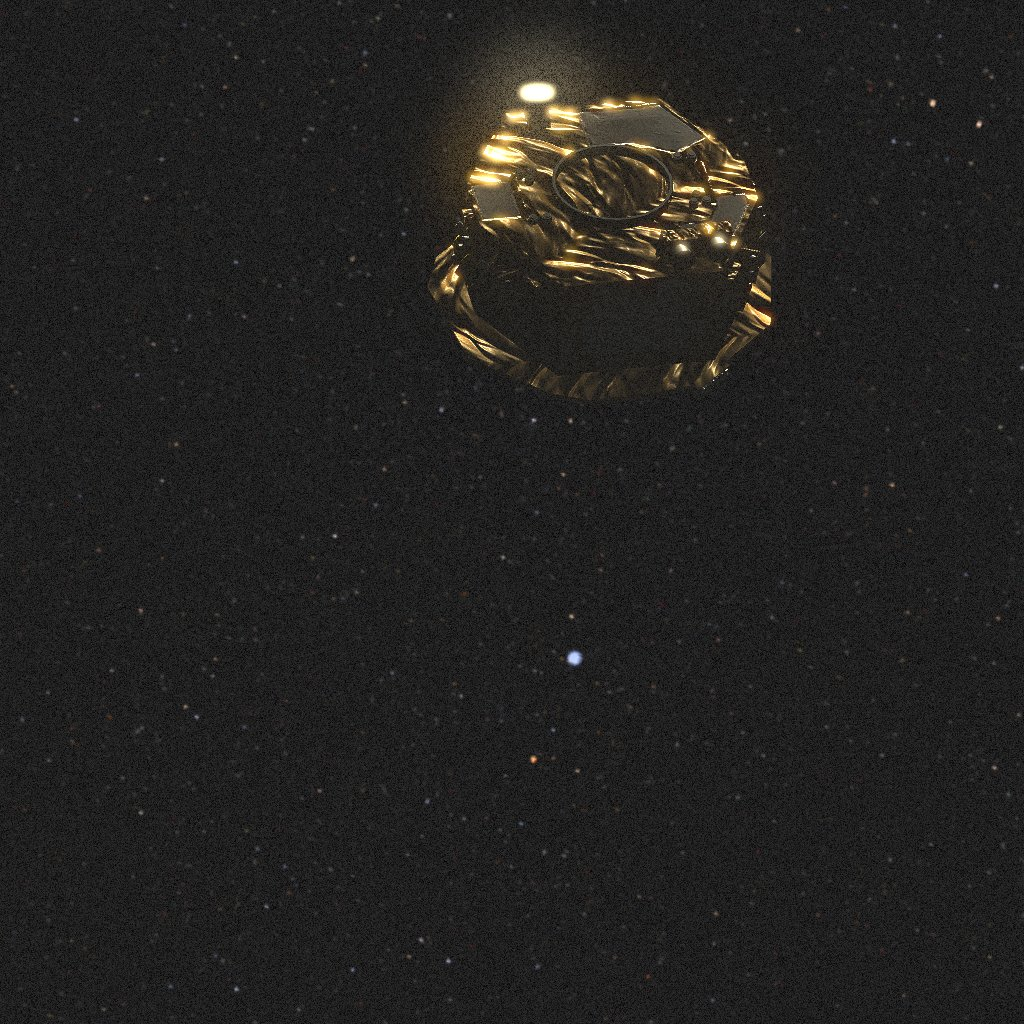lisa_pathfinder: (428, 88, 771, 405)
